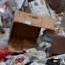garbage: (2, 3, 63, 65)
